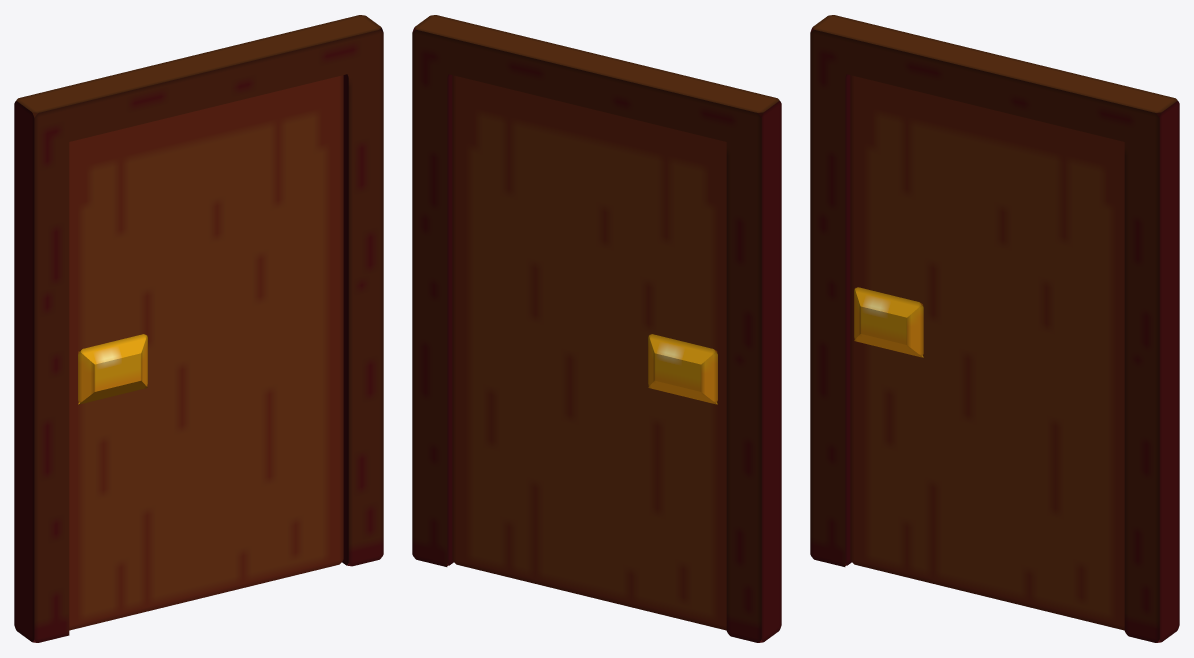
The model's file is WoodDoor.fbx.
3 renders of one model, left to right at view 1: azimuth 30°, elevation 25°; view 2: azimuth 150°, elevation 25°; view 3: azimuth 330°, elevation 25°, orthographic.
Visible parts, largest first — view 1: cuboid, Rahmen, cuboid_2; view 2: cuboid, Rahmen, cuboid_1; view 3: cuboid, Rahmen, cuboid_2.
Boxes of the visible parts, x1,y1,x2,y2 form: cuboid: (69,75,343,630); Rahmen: (14,15,383,642); cuboid_2: (78,334,147,404); cuboid: (452,75,726,630); Rahmen: (412,15,781,642); cuboid_1: (648,334,717,404); cuboid: (850,75,1124,630); Rahmen: (810,15,1179,642); cuboid_2: (854,287,923,357).
Bounding box in the file's own units: 250 × 362 × 37.5.
Materials: 1 (1 with a texture image).
